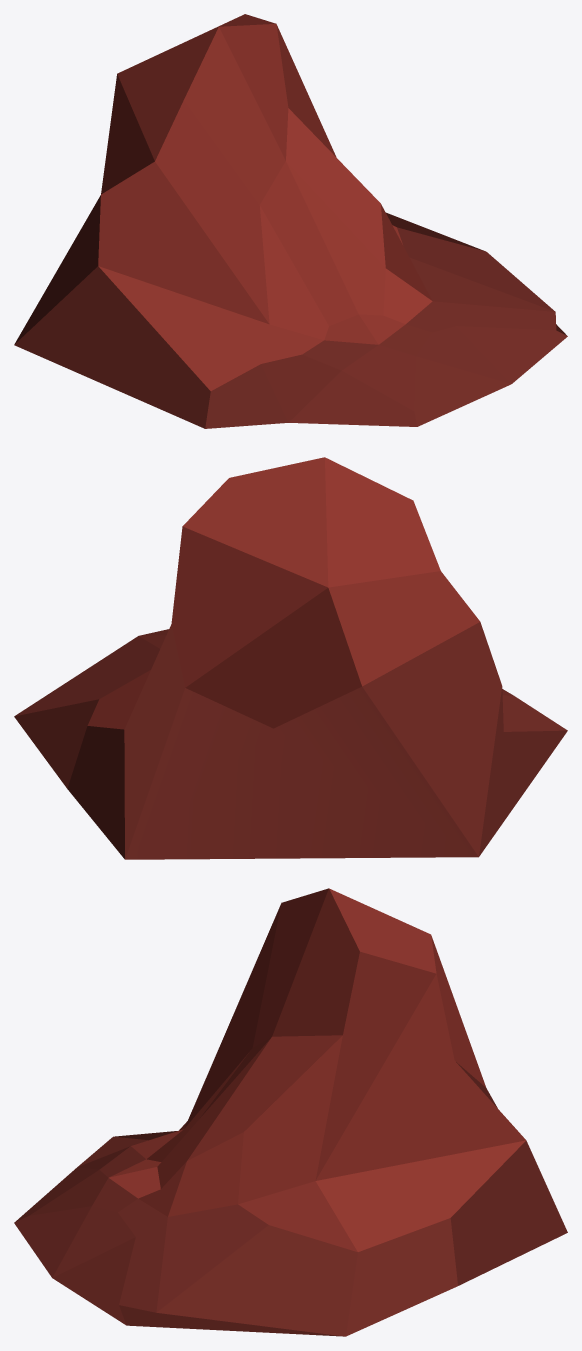
Rendered from Stone_5_Red.fbx.
3 views of the same model, one above another, from view 1: azimuth 30°, elevation 25°; view 2: azimuth 150°, elevation 25°; view 3: azimuth 270°, elevation 25° (orthographic). The views are drawn at different scales.
Visible parts, largest first — view 1: Stone_5_Red_Part_2, Stone_5_Red_Part_1; view 2: Stone_5_Red_Part_1, Stone_5_Red_Part_2; view 3: Stone_5_Red_Part_2, Stone_5_Red_Part_1.
Boxes of the visible parts, left/top/right/bottom form: Stone_5_Red_Part_2: left=98, top=14, right=432, bottom=390; Stone_5_Red_Part_1: left=14, top=195, right=567, bottom=428; Stone_5_Red_Part_1: left=14, top=622, right=567, bottom=859; Stone_5_Red_Part_2: left=87, top=457, right=480, bottom=729; Stone_5_Red_Part_2: left=109, top=888, right=526, bottom=1251; Stone_5_Red_Part_1: left=14, top=1062, right=567, bottom=1336.
Size of the model in its own units: 337 by 216 by 348.
